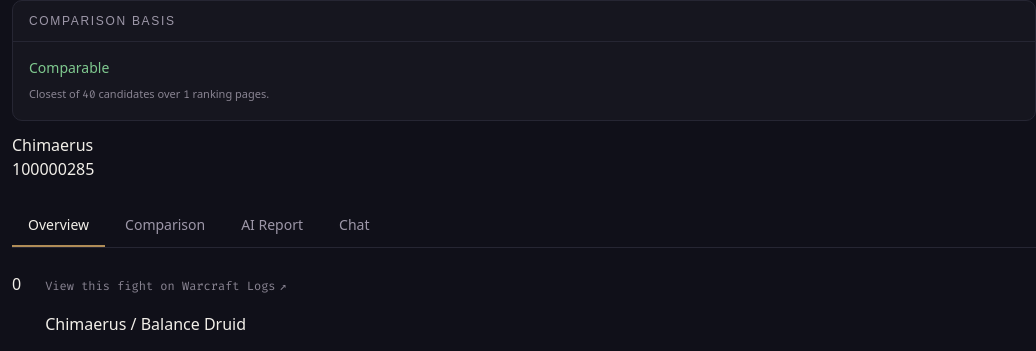
bossContentPanel › mounts one tab at a time
What coordinates should you click on to do the following:
click the tab "Comparison"
I would click on:
 (165, 226)
Its box is [109,204,221,246].
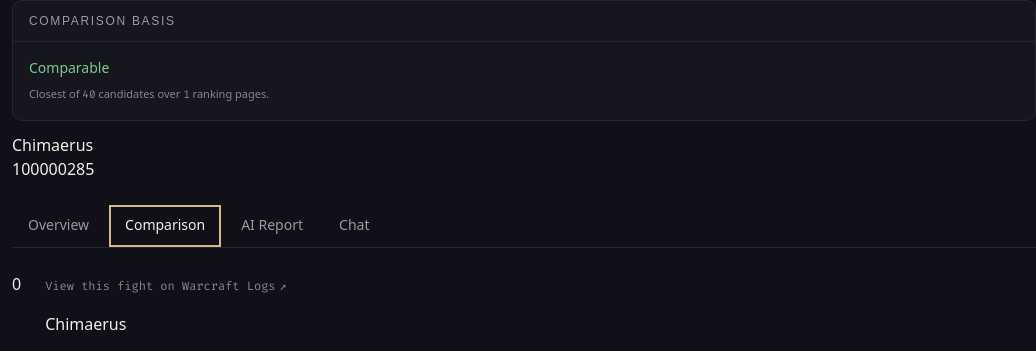
Expected: the text with test id "comparison" is shown, [45,312,126,334]
Now the text with test id "overview" is gone
